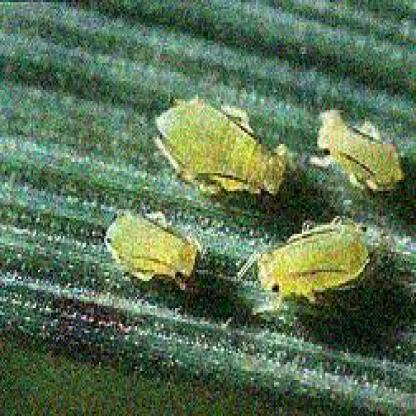schizaphis graminum: (156, 96, 291, 198), (235, 223, 370, 314), (314, 111, 405, 192), (104, 211, 197, 289)
